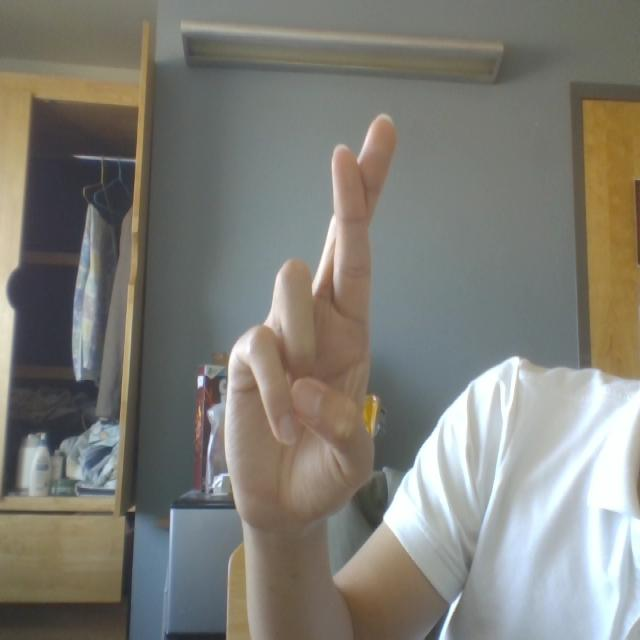R: (205, 113, 453, 555)
